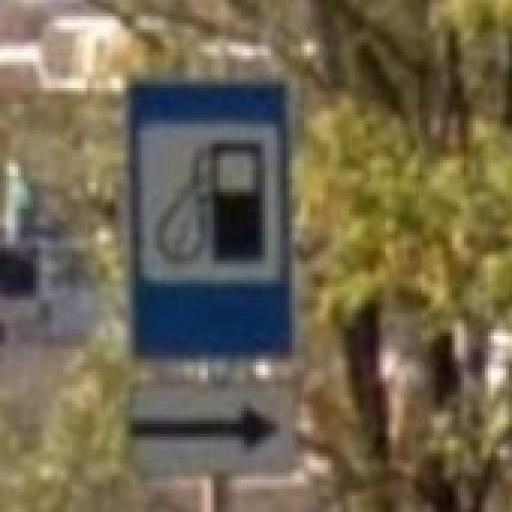traffic_sign: (125, 76, 302, 370)
